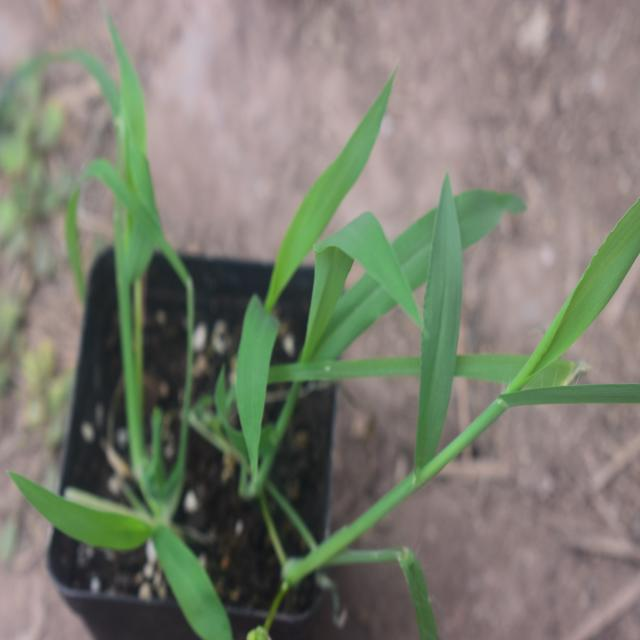crabgrass: (213, 104, 640, 420)
